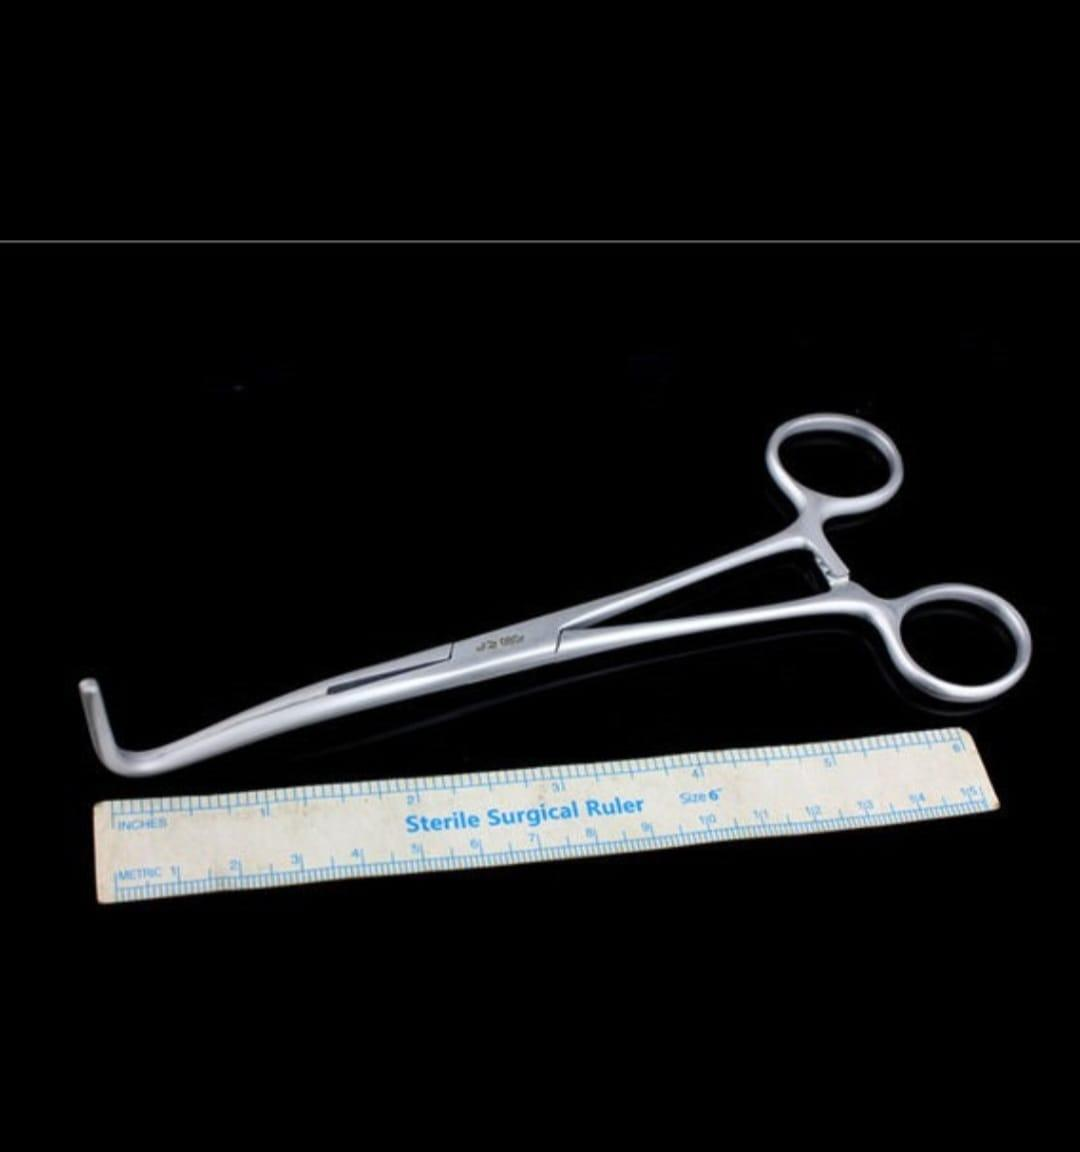Rectangle Cholecystectomy Forceps: (63, 403, 1043, 778)
